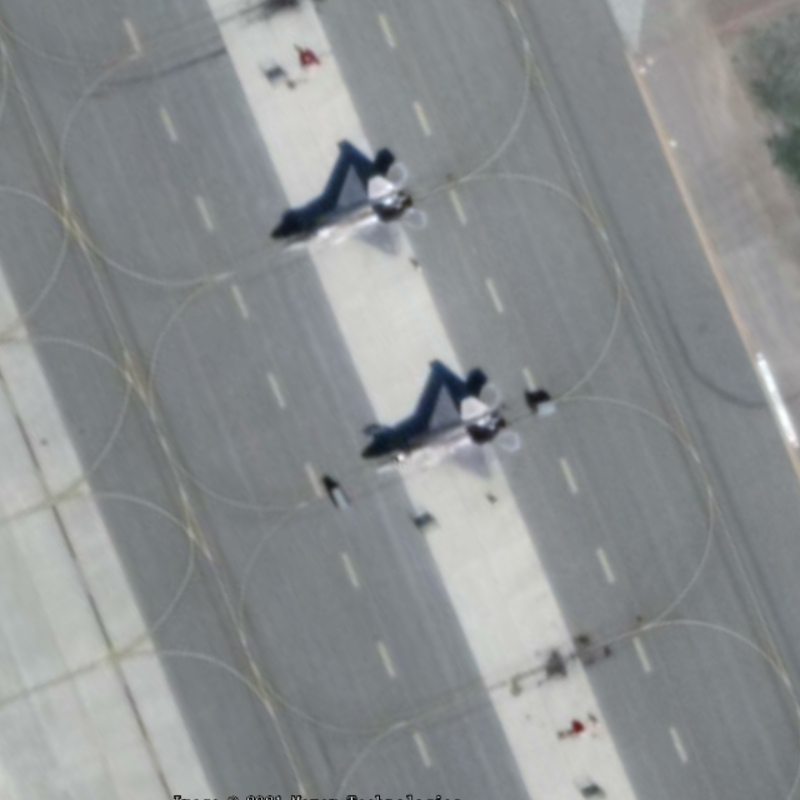A15: (351, 372, 523, 490), (275, 151, 441, 267)
